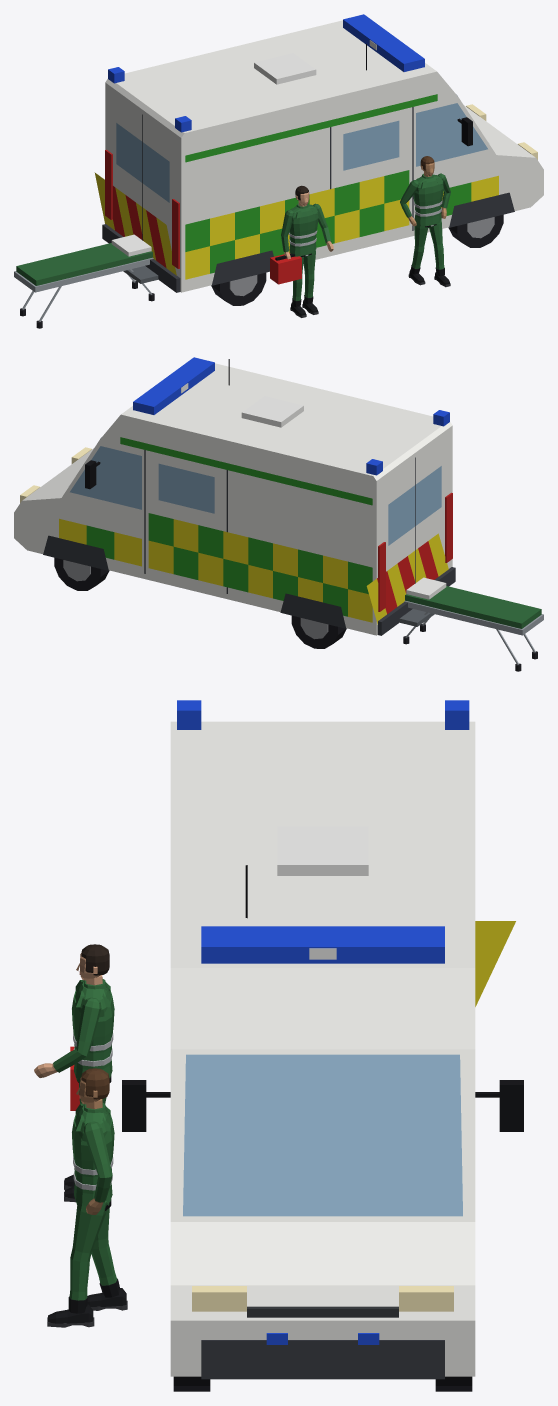
The model's file is ambulance.glb.
3 renders of one model, top to bottom at view 1: azimuth 30°, elevation 25°; view 2: azimuth 150°, elevation 25°; view 3: azimuth 270°, elevation 25°, orthographic. The views are drawn at different scales.
Parts seen in each view (by area): view 1: Ambulance, Crew, Track; view 2: Ambulance, Crew; view 3: Ambulance, Track, Crew.
Boxes of the visible parts, <box> form: Ambulance: <box>94,14,543,305</box>; Crew: <box>14,185,333,328</box>; Track: <box>400,156,450,287</box>; Ambulance: <box>14,357,455,648</box>; Crew: <box>403,577,543,671</box>; Ambulance: <box>122,700,523,1391</box>; Track: <box>47,1068,127,1327</box>; Crew: <box>34,944,114,1202</box>.
Bounding box in the file's own units: 7.32 × 3.1 × 3.22.
